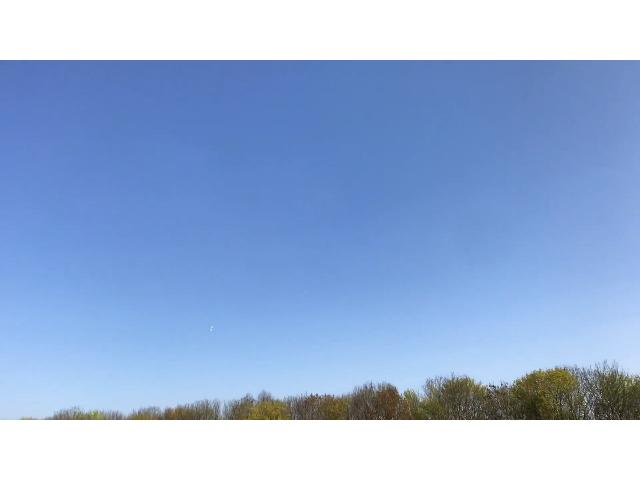Anti-Drone: (207, 318, 223, 338)
